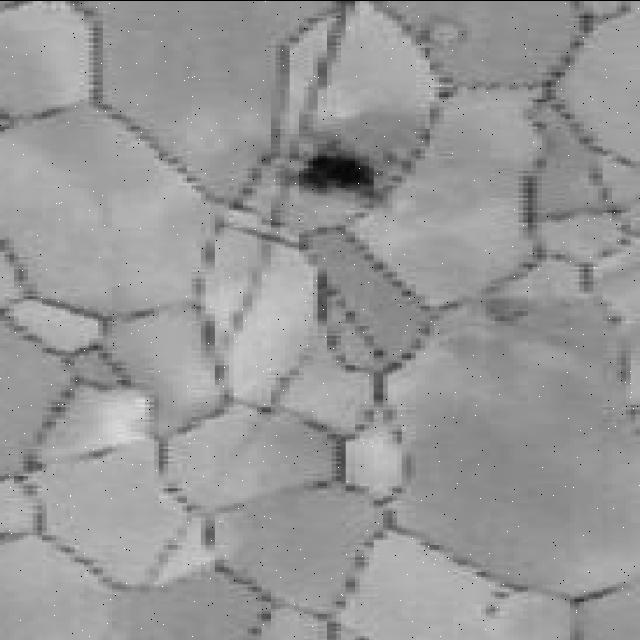good_void: (289, 149, 388, 197)
